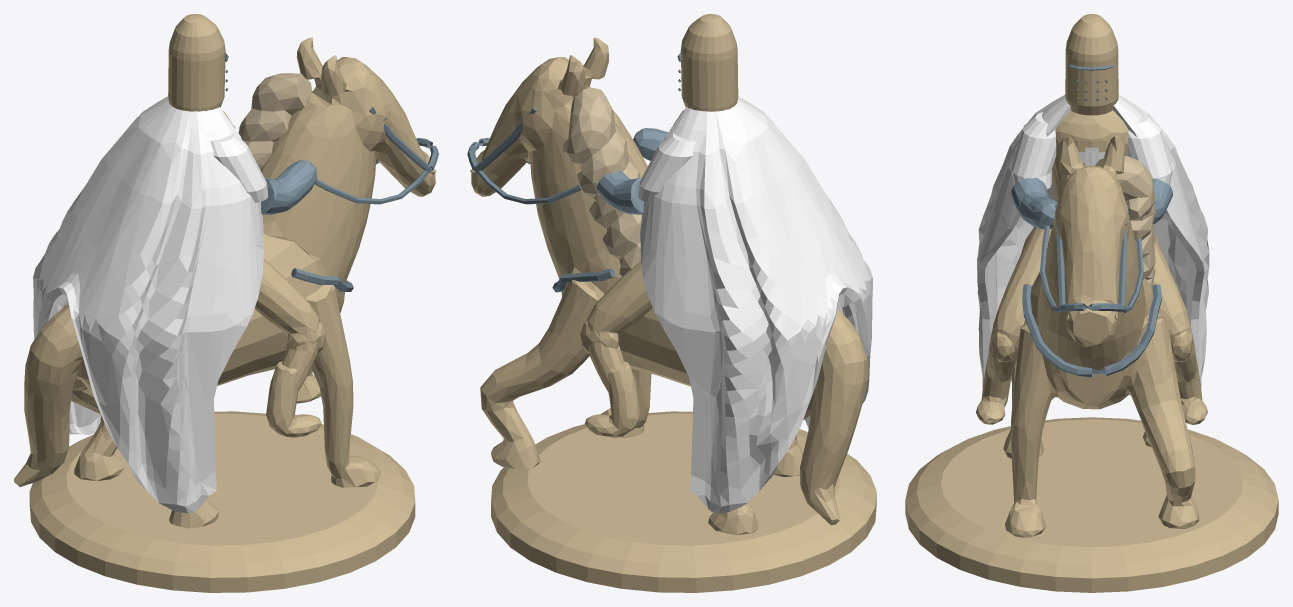
The model's file is horseman.glb.
The picture shows the model from 3 angles, left to right: view 1: azimuth 30°, elevation 25°; view 2: azimuth 150°, elevation 25°; view 3: azimuth 270°, elevation 25°; orthographic projection. The views are drawn at different scales.
Parts seen in each view (by area): view 1: Turned circular base; view 2: Turned circular base; view 3: Turned circular base.
Boxes of the visible parts, x1,y1,x2,y2 form: Turned circular base: [14, 14, 438, 592]; Turned circular base: [467, 14, 876, 592]; Turned circular base: [905, 14, 1278, 592].
Bounding box in the file's own units: 0.938 × 1.14 × 0.79.
